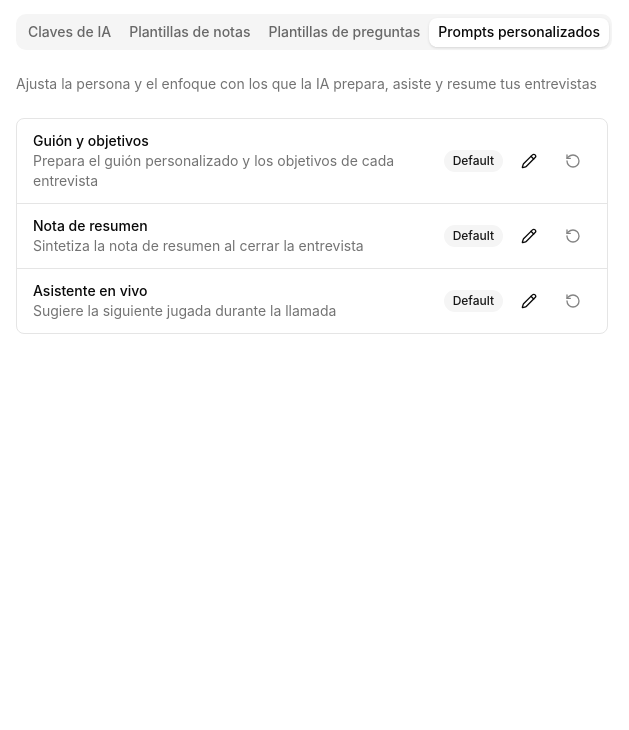
Test: CustomPromptItem › in-place editing › shows the inline error "El prompt no puede quedar vacío" and does not persist when saving an emptied editor
This screenshot has width=629, height=730.
Click the button named "Editar prompt" in the row of "Guión y objetivos" at (529, 161), box x1=511 y1=143 x2=547 y2=179
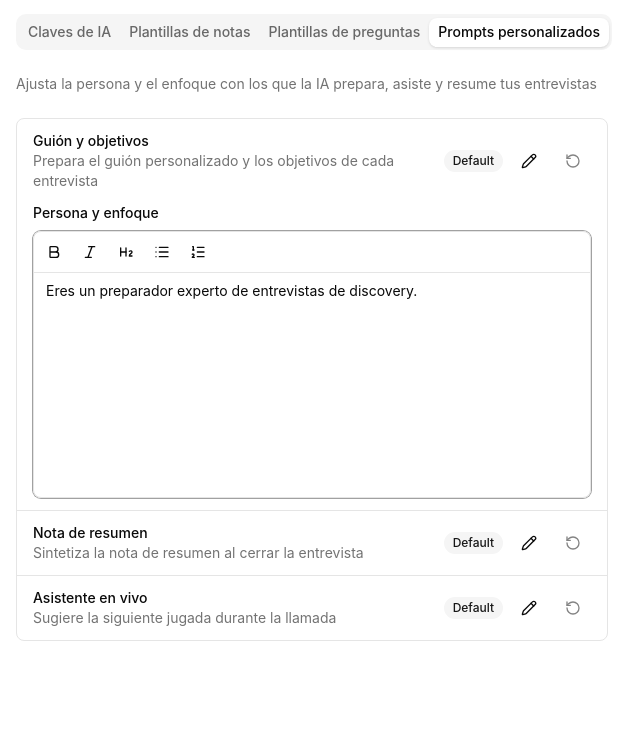
Type keys "{Control>}a{/Control}{Backspace}"
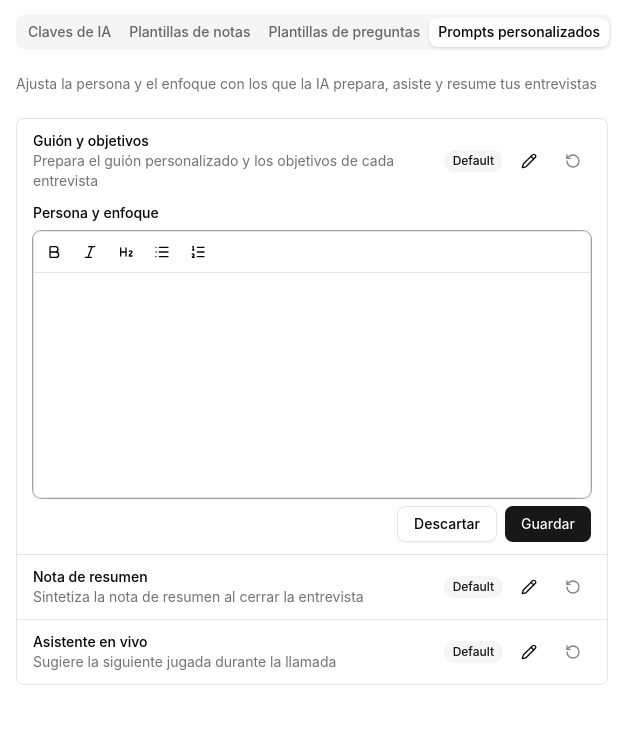
Result: the field "Eres un preparador experto de entrevistas de discovery." is gone
Click the button "Guardar" at (548, 524), box x1=505 y1=506 x2=591 y2=542
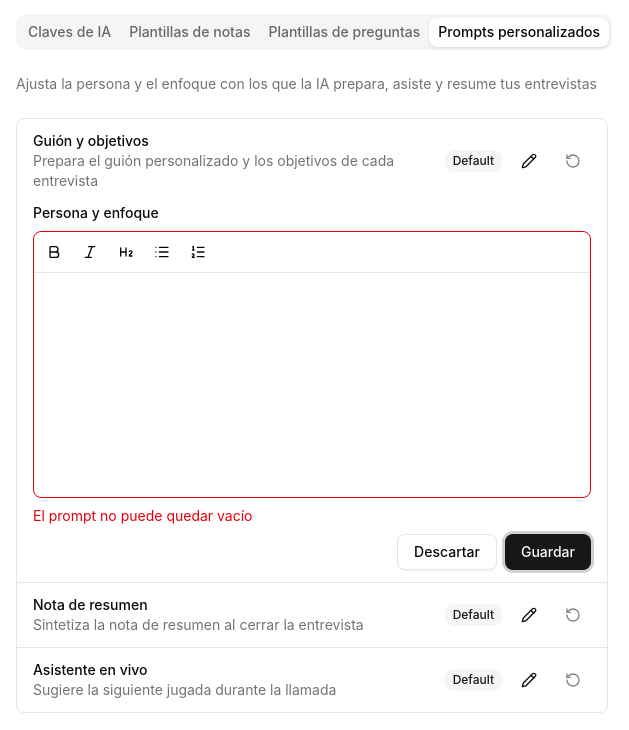
Result: the element with test id "custom-prompt-panel-script" is shown at x1=33 y1=203 x2=591 y2=570
Result: the text "El prompt no puede quedar vacío" is shown at x1=33 y1=507 x2=252 y2=524
